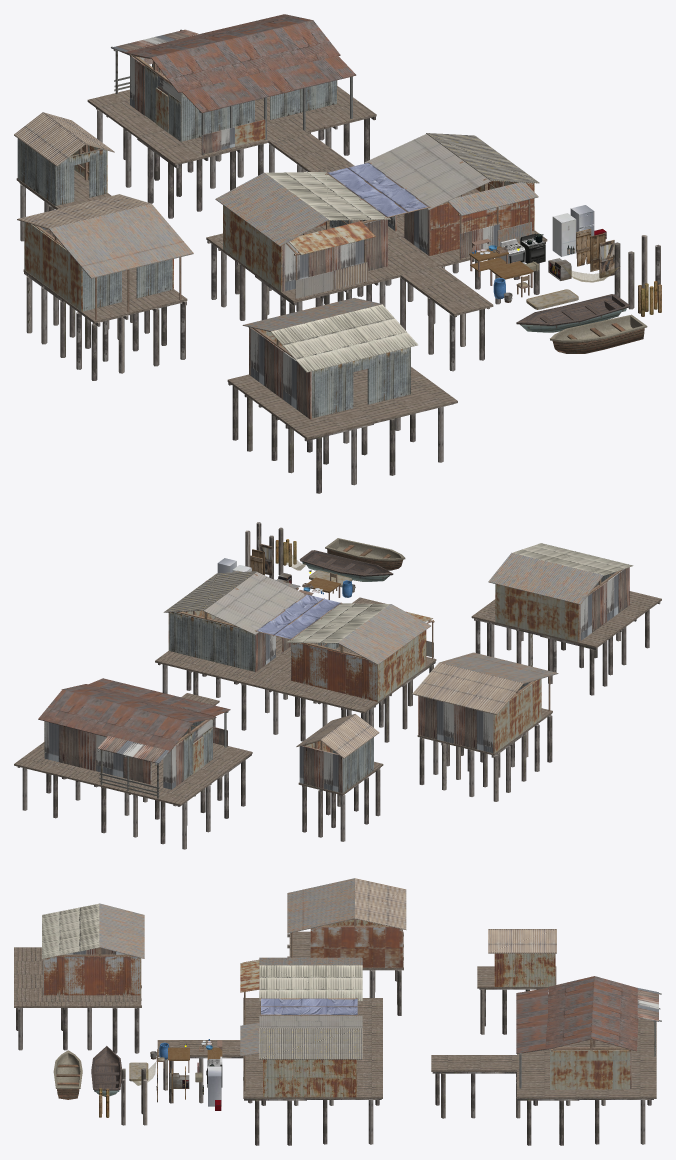
The model's file is HousesOnWaterFixedTextures.glb.
The picture shows the model from 3 angles, top to bottom: view 1: azimuth 30°, elevation 25°; view 2: azimuth 150°, elevation 25°; view 3: azimuth 270°, elevation 25°; orthographic projection. The views are drawn at different scales.
Visible parts, largest first — view 1: Roofing, Roofing_05, Roofing_04, Roofing_02, Base, Walls_02, Roofing_03, Walls_03, Walls, Base.001, Base.002, Walls_01 (+18 smaller); view 2: Roofing, Walls, Walls_03, Walls_02, Walls_01, Roofing_02, Roofing_05, Roofing_03, Roofing_04, Base, Base.001, Walls_04 (+13 smaller); view 3: Roofing, Base, Roofing_04, Base.001, Roofing_02, Roofing_05, Roofing_03, Walls_02, Walls_04, Walls_01, Walls_03, Base.002 (+14 smaller).
Boxes of the visible parts, x1,y1,x2,y2 form: Roofing: [111, 14, 356, 112]; Roofing_05: [215, 171, 390, 254]; Roofing_04: [364, 133, 539, 215]; Roofing_02: [17, 194, 193, 278]; Base: [87, 86, 376, 172]; Walls_02: [249, 327, 410, 419]; Roofing_03: [242, 298, 417, 372]; Walls_03: [130, 56, 337, 141]; Walls: [223, 205, 387, 291]; Base.001: [206, 189, 547, 317]; Base.002: [227, 367, 457, 441]; Walls_01: [24, 222, 173, 311]; Roofing: [38, 678, 230, 763]; Walls: [291, 630, 426, 701]; Walls_03: [44, 719, 212, 789]; Walls_02: [495, 567, 629, 642]; Walls_01: [418, 679, 541, 753]; Roofing_02: [412, 652, 558, 714]; Roofing_05: [286, 603, 432, 664]; Roofing_03: [488, 543, 633, 604]; Roofing_04: [163, 570, 305, 634]; Base: [14, 693, 252, 806]; Base.001: [155, 597, 436, 714]; Walls_04: [168, 610, 290, 671]; Roofing: [516, 976, 658, 1053]; Base: [431, 1018, 656, 1100]; Roofing_04: [240, 1015, 362, 1059]; Base.001: [157, 998, 382, 1100]; Roofing_02: [287, 878, 406, 933]; Roofing_05: [240, 957, 362, 1001]; Roofing_03: [42, 903, 144, 958]; Walls_02: [43, 948, 140, 995]; Walls_04: [263, 1059, 356, 1097]; Walls_01: [310, 920, 402, 967]; Walls_03: [550, 1049, 631, 1089]; Base.002: [14, 947, 141, 1009].
Bounding box in the file's own units: 29.52 × 7.51 × 43.99.
Materials: 37 (36 with a texture image).
